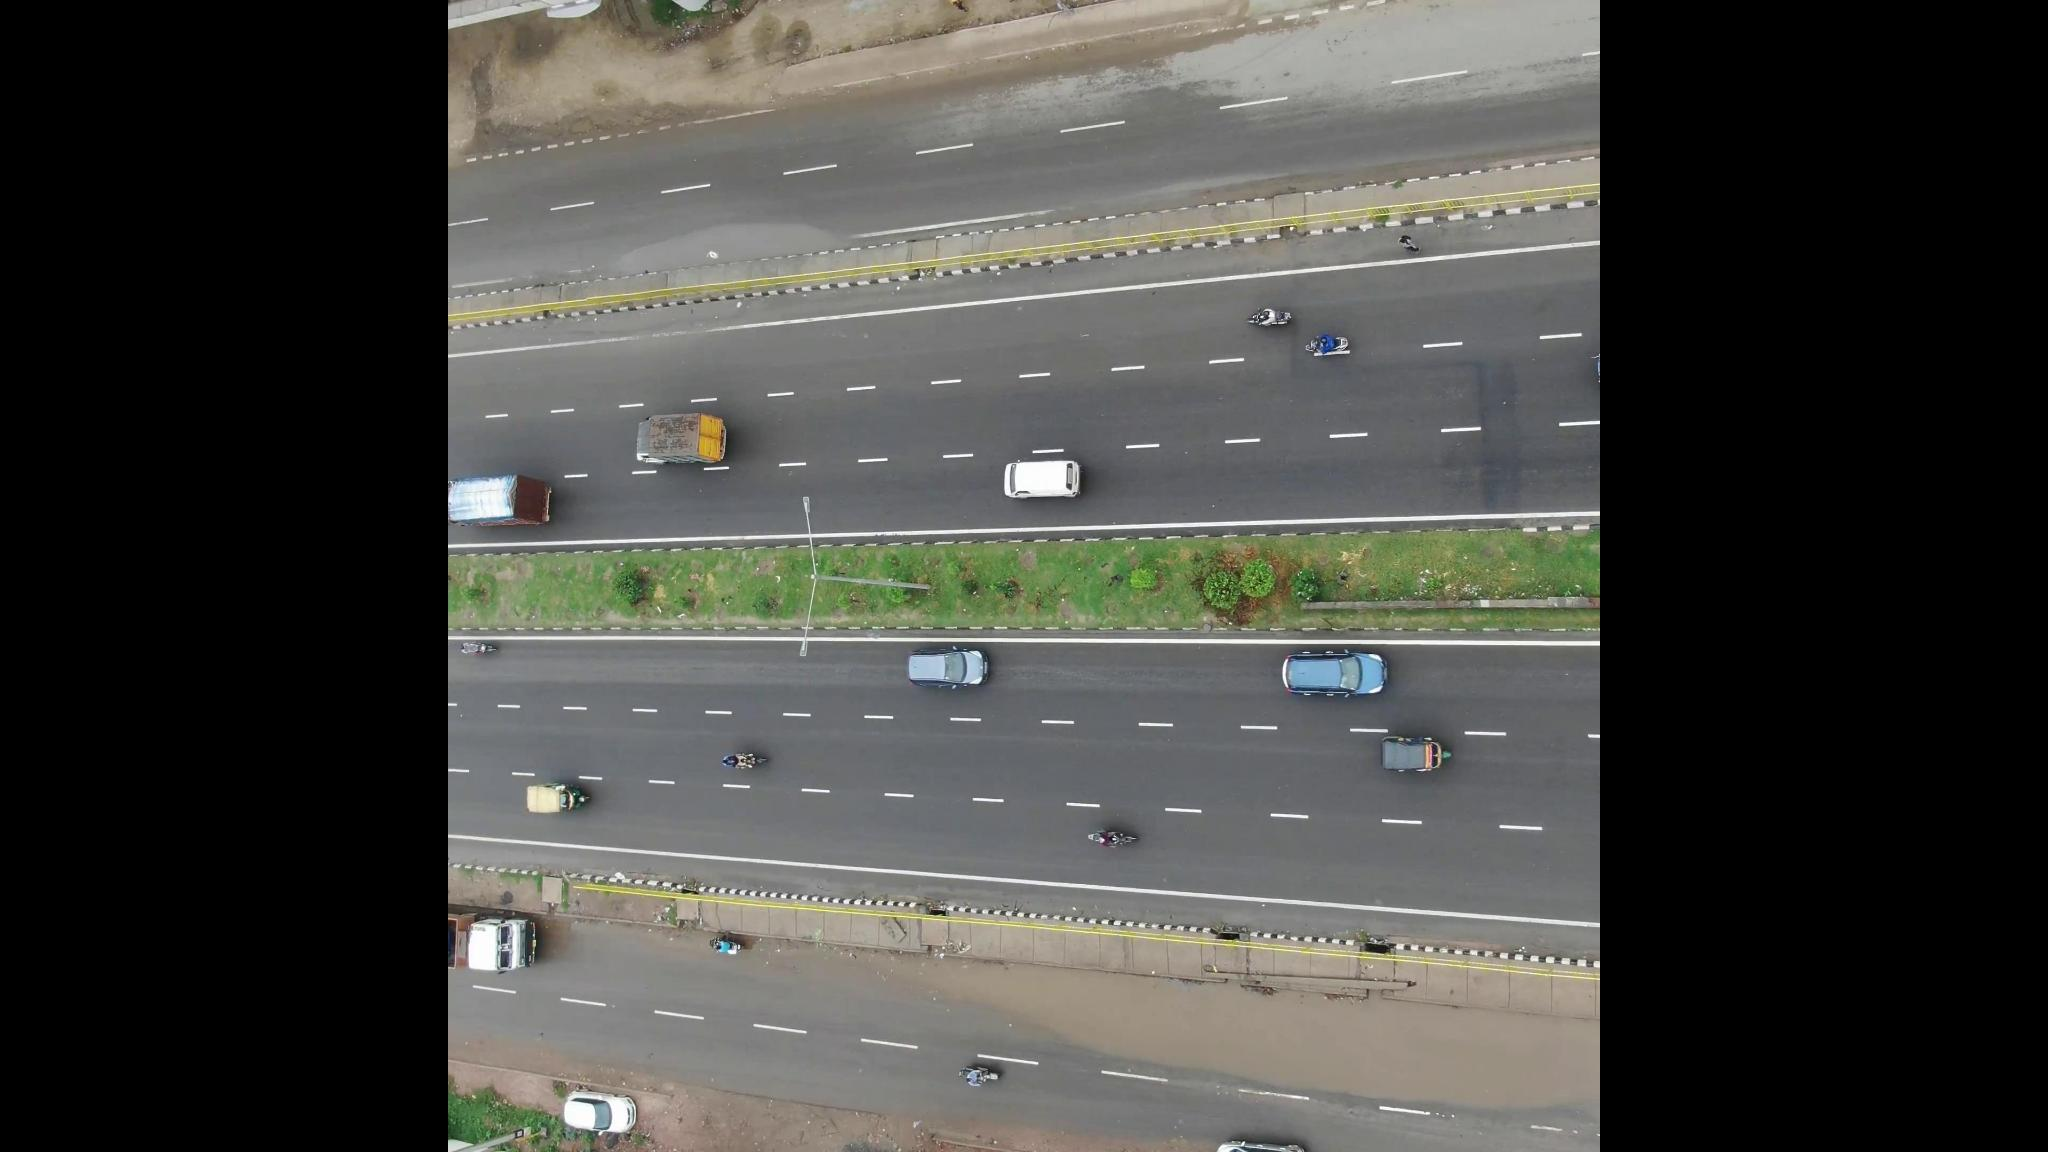Waterlogging: (942, 956, 1580, 1113)
